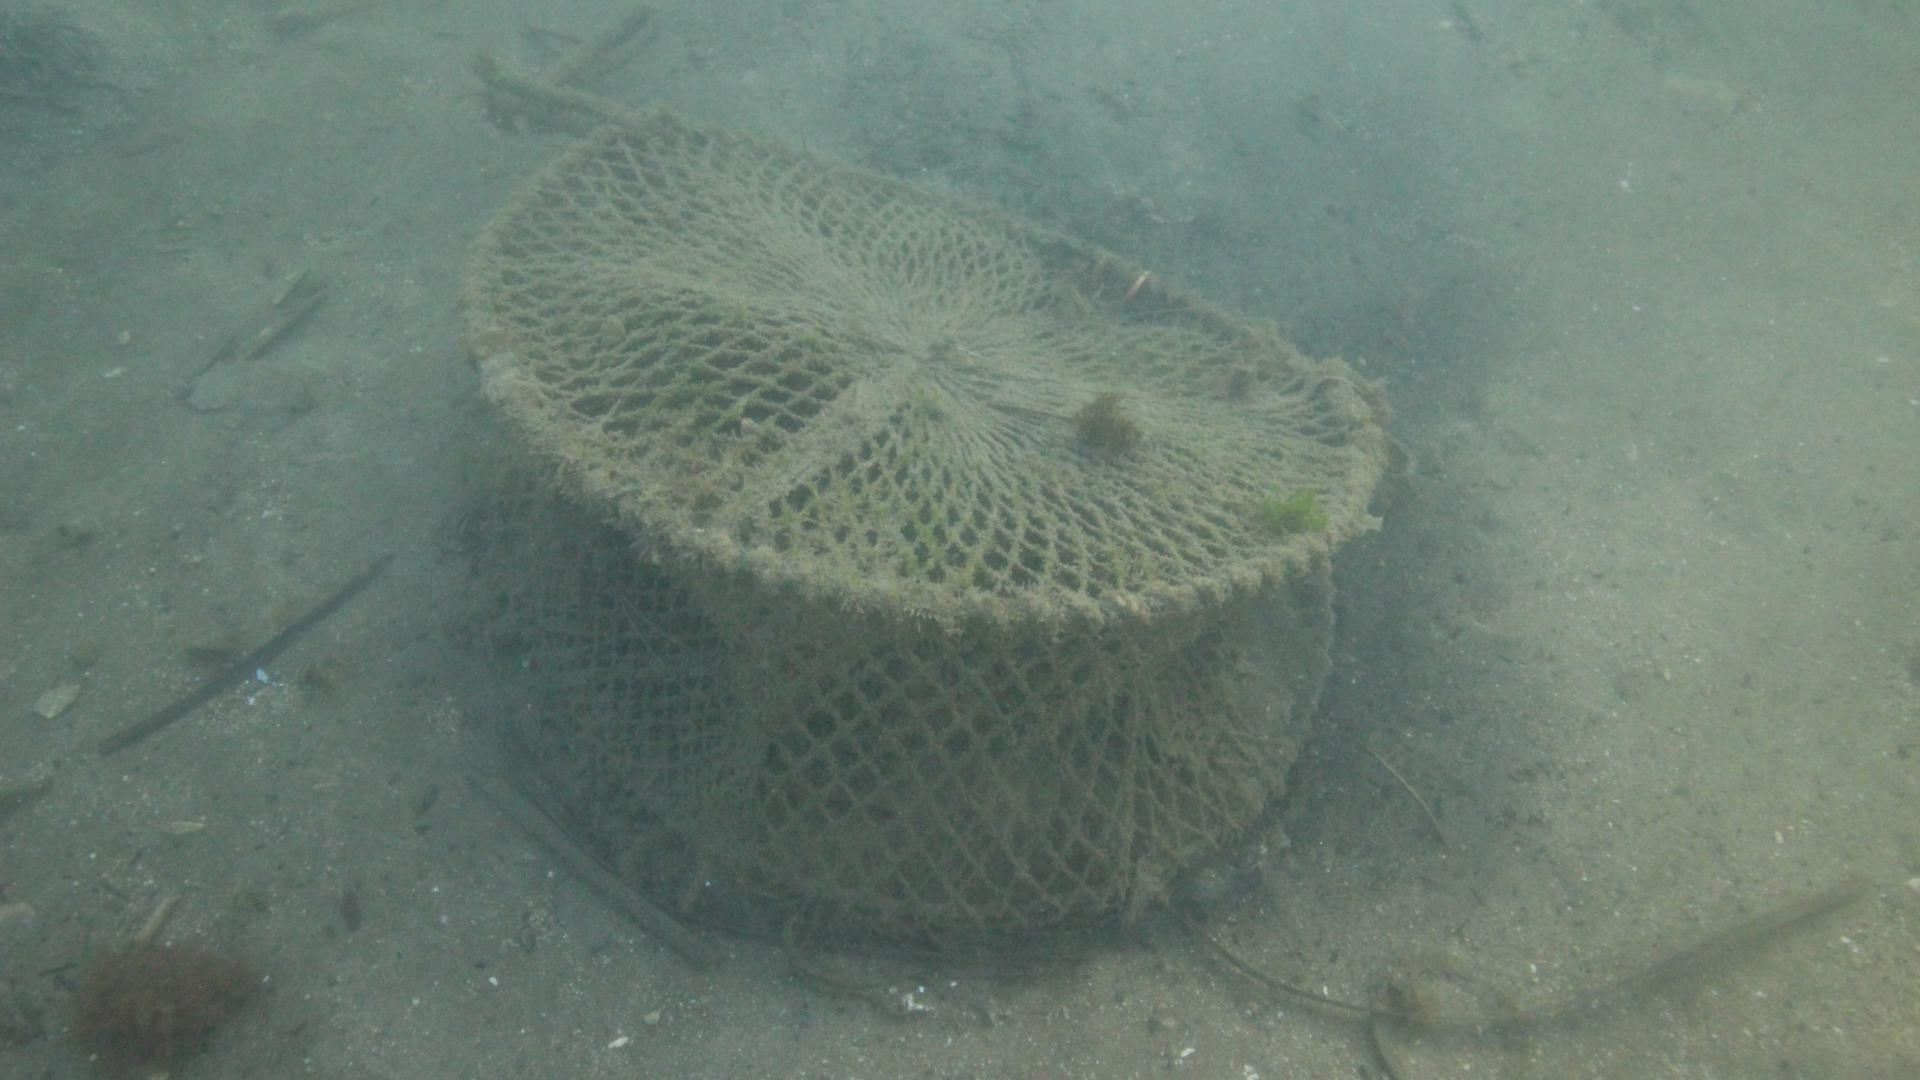circular fish trap: (463, 105, 1382, 944)
